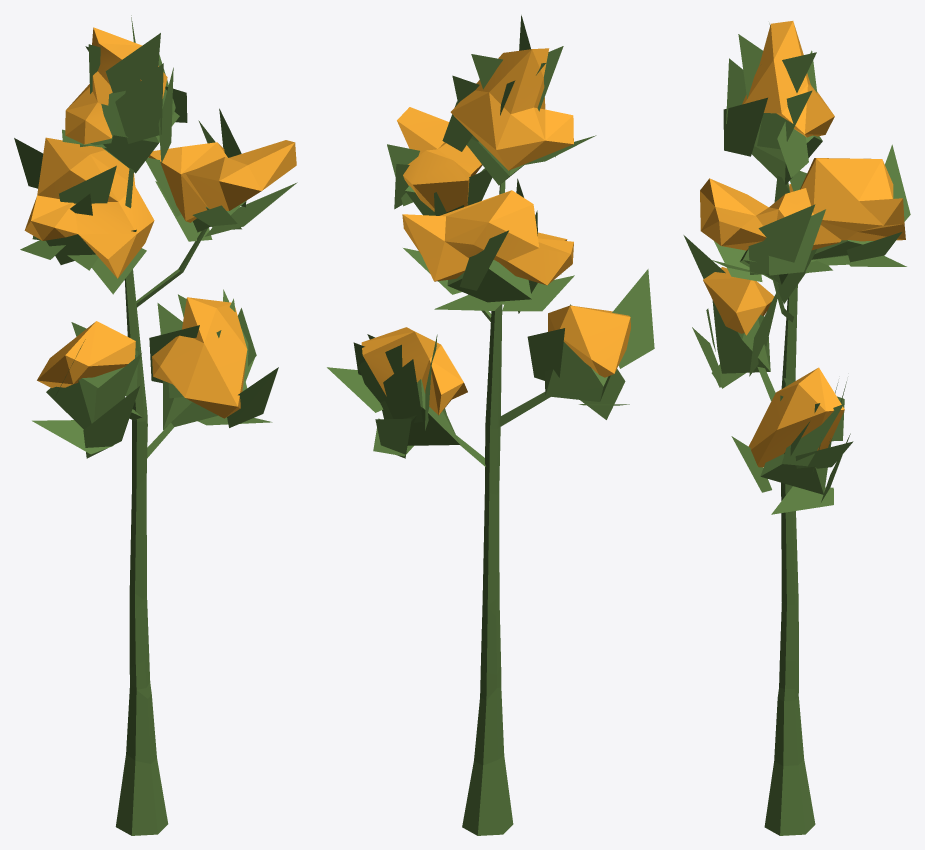
File: SM_Tree_Birch_Sapling_A_Snow.fbx
3 renders of one model, left to right at view 1: azimuth 30°, elevation 25°; view 2: azimuth 150°, elevation 25°; view 3: azimuth 270°, elevation 25°, orthographic. The views are drawn at different scales.
Parts seen in each view (by area): view 1: tree-birch-sapling-a-snow; view 2: tree-birch-sapling-a-snow; view 3: tree-birch-sapling-a-snow.
Part boxes in pixels (x1,y1,x2,y2): tree-birch-sapling-a-snow: (14,15,297,835); tree-birch-sapling-a-snow: (327,15,654,835); tree-birch-sapling-a-snow: (683,21,910,835).
Size of the model in its own units: 0.6692 by 1.99 by 0.5202.
